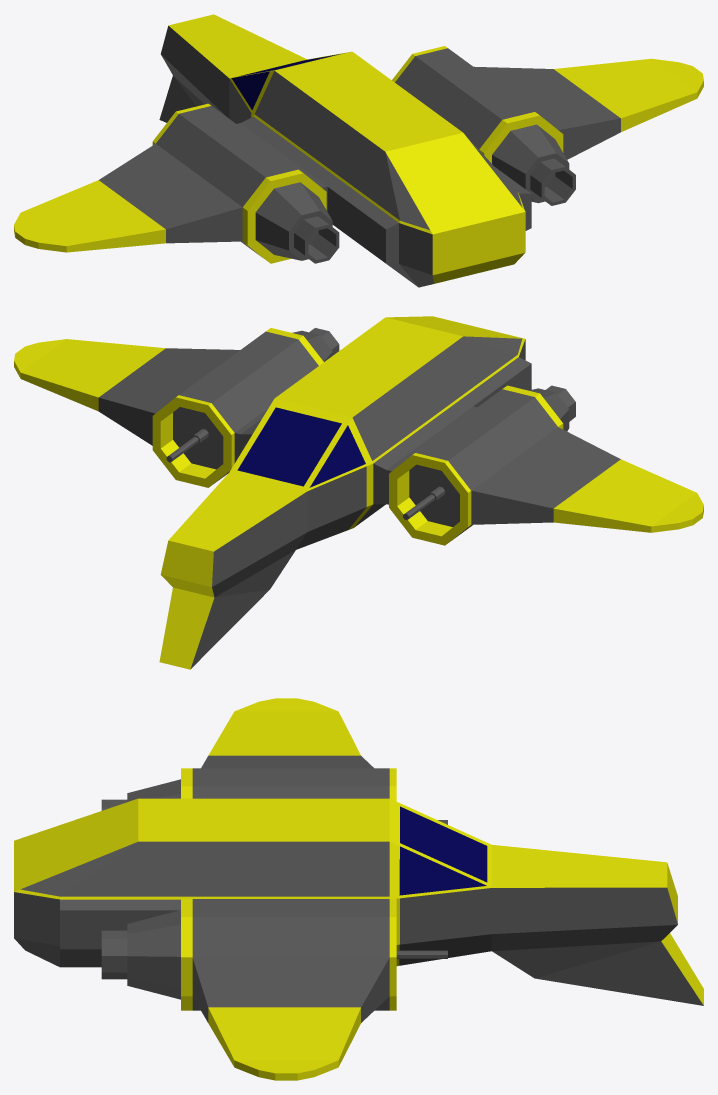
File: MediumShip.fbx
3 views of the same model, one above another, from view 1: azimuth 30°, elevation 25°; view 2: azimuth 150°, elevation 25°; view 3: azimuth 270°, elevation 25° (orthographic). The views are drawn at different scales.
Visible parts, largest first — view 1: MediumShip; view 2: MediumShip; view 3: MediumShip.
Part boxes in pixels (bbox=[...]): MediumShip: bbox=[14, 14, 703, 287]; MediumShip: bbox=[14, 316, 703, 669]; MediumShip: bbox=[14, 698, 703, 1080].
Bounding box in the file's own units: 434 × 95.84 × 338.
